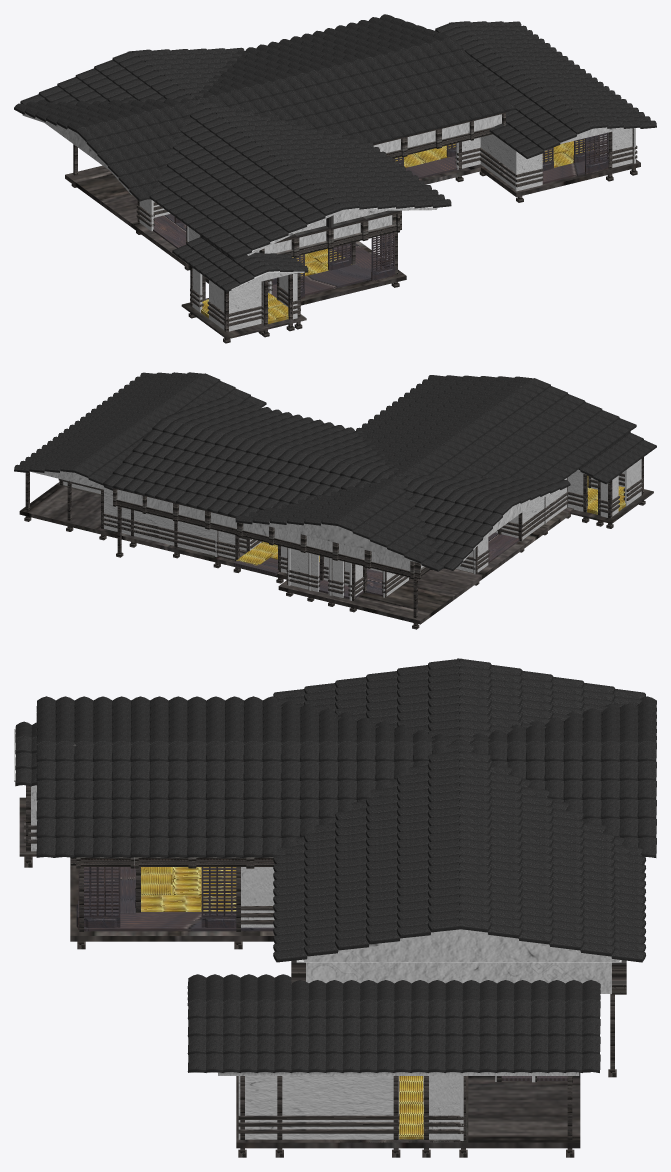
Rendered from casa_japonesa.glb.
The picture shows the model from 3 angles, top to bottom: view 1: azimuth 30°, elevation 25°; view 2: azimuth 150°, elevation 25°; view 3: azimuth 270°, elevation 25°; orthographic projection. The views are drawn at different scales.
Visible parts, largest first — view 1: Object_73, Object_5, Object_6, Object_3, Object_4, Object_9, Object_20, Object_61, Object_65, Object_12, Object_18, Object_2 (+57 smaller); view 2: Object_73, Object_5, Object_3, Object_4, Object_63, Object_10, Object_58, Object_71, Object_65, Object_15, Object_68, Object_62 (+57 smaller); view 3: Object_73, Object_5, Object_3, Object_13, Object_52, Object_50, Object_14, Object_2, Object_4, Object_10, Object_16, Object_48 (+58 smaller).
Boxes of the visible parts, <box> form: Object_73: <box>22,113,639,331</box>; Object_5: <box>65,159,640,339</box>; Object_6: <box>153,143,606,297</box>; Object_3: <box>71,112,637,343</box>; Object_4: <box>136,127,637,337</box>; Object_9: <box>76,29,462,141</box>; Object_20: <box>284,70,460,119</box>; Object_61: <box>37,63,417,114</box>; Object_65: <box>20,65,256,259</box>; Object_12: <box>139,62,330,126</box>; Object_18: <box>272,84,449,129</box>; Object_2: <box>201,139,593,323</box>; Object_73: <box>29,459,641,600</box>; Object_5: <box>19,387,653,624</box>; Object_3: <box>24,386,645,629</box>; Object_4: <box>59,474,613,612</box>; Object_63: <box>113,456,462,556</box>; Object_10: <box>103,421,492,497</box>; Object_58: <box>123,458,483,548</box>; Object_71: <box>153,378,550,531</box>; Object_65: <box>353,418,636,571</box>; Object_15: <box>277,449,453,500</box>; Object_68: <box>226,423,601,489</box>; Object_62: <box>154,413,473,559</box>; Object_73: <box>14,729,621,1140</box>; Object_5: <box>19,746,580,1148</box>; Object_3: <box>24,744,626,1157</box>; Object_13: <box>93,741,394,761</box>; Object_52: <box>55,760,656,837</box>; Object_50: <box>74,760,638,799</box>; Object_14: <box>74,741,656,999</box>; Object_2: <box>141,867,423,1139</box>; Object_4: <box>24,785,467,1157</box>; Object_10: <box>427,679,645,962</box>; Object_16: <box>36,658,620,932</box>; Object_48: <box>55,717,356,799</box>.
Size of the model in its own units: 4.74 by 0.9974 by 3.68.
5 materials, 5 textured.
